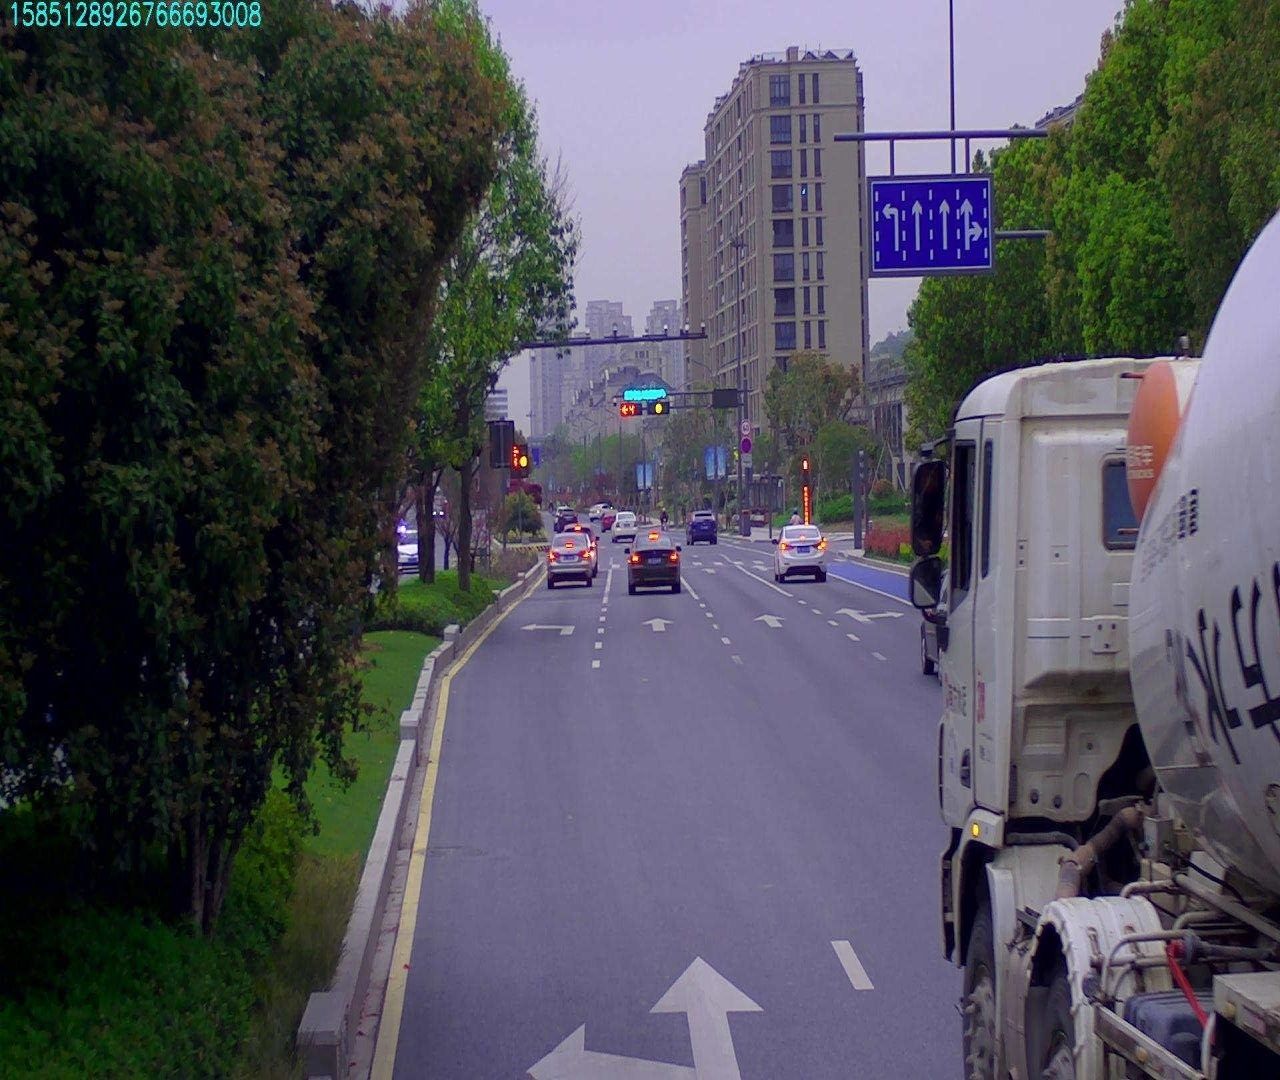red: (618, 401, 641, 414)
yellow: (647, 402, 672, 414)
